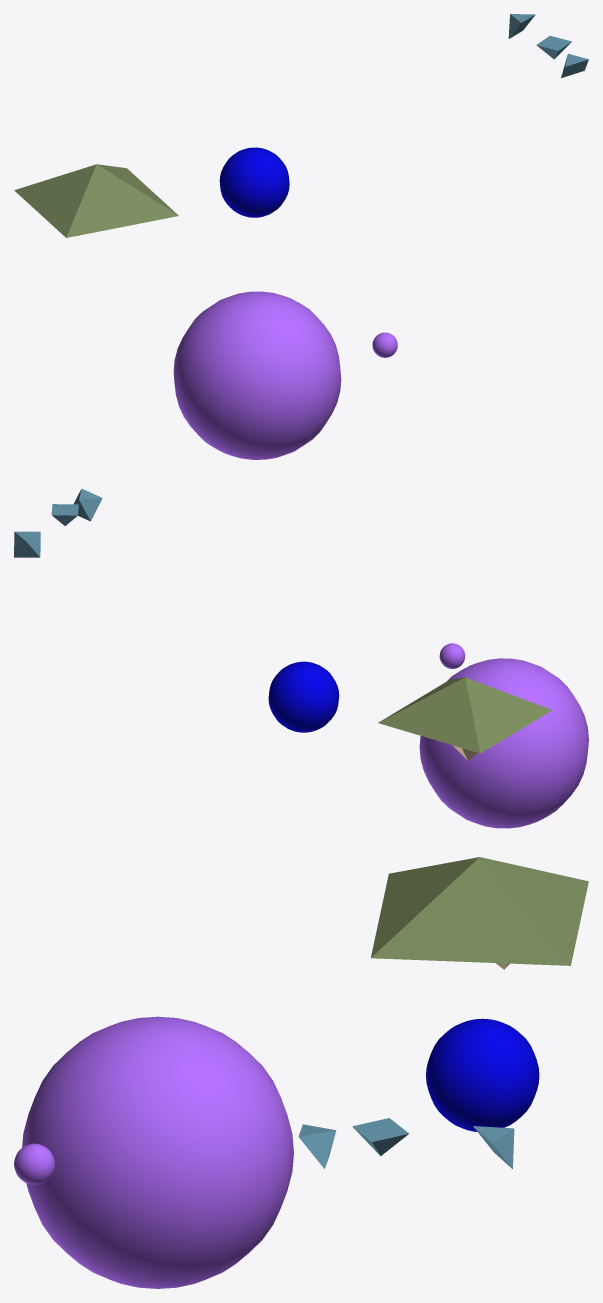
The model's file is level_future.fbx.
The picture shows the model from 3 angles, top to bottom: view 1: azimuth 30°, elevation 25°; view 2: azimuth 150°, elevation 25°; view 3: azimuth 270°, elevation 25°; orthographic projection. The views are drawn at different scales.
Parts seen in each view (by area): view 1: pSphere3, island, pSphere1; view 2: pSphere3, island, pSphere1, pasted__platform, pasted__platform3, pSphere4, pasted__platform2; view 3: pSphere3, island, pSphere1, pSphere4, pasted__platform2, pasted__platform3, pasted__platform.
Part boxes in pixels (<box>): pSphere3: <box>173,291,341,459</box>; island: <box>14,164,178,237</box>; pSphere1: <box>219,147,289,217</box>; pSphere3: <box>419,658,588,828</box>; island: <box>378,677,552,753</box>; pSphere1: <box>268,661,339,732</box>; pasted__platform: <box>14,531,40,557</box>; pasted__platform3: <box>74,488,102,521</box>; pSphere4: <box>439,643,465,668</box>; pasted__platform2: <box>51,504,78,525</box>; pSphere3: <box>22,1016,293,1288</box>; island: <box>371,857,588,965</box>; pSphere1: <box>426,1018,539,1131</box>; pSphere4: <box>14,1143,54,1184</box>; pasted__platform2: <box>352,1118,409,1155</box>; pasted__platform3: <box>298,1124,336,1168</box>; pasted__platform: <box>473,1126,514,1169</box>.
Bounding box in the file's own units: 69.74 × 35.82 × 42.89.
